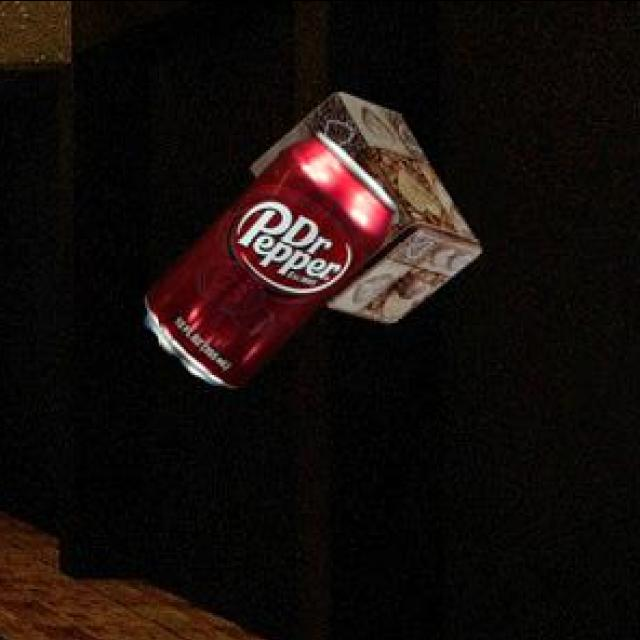logam: (148, 129, 401, 384), (254, 88, 485, 319)
